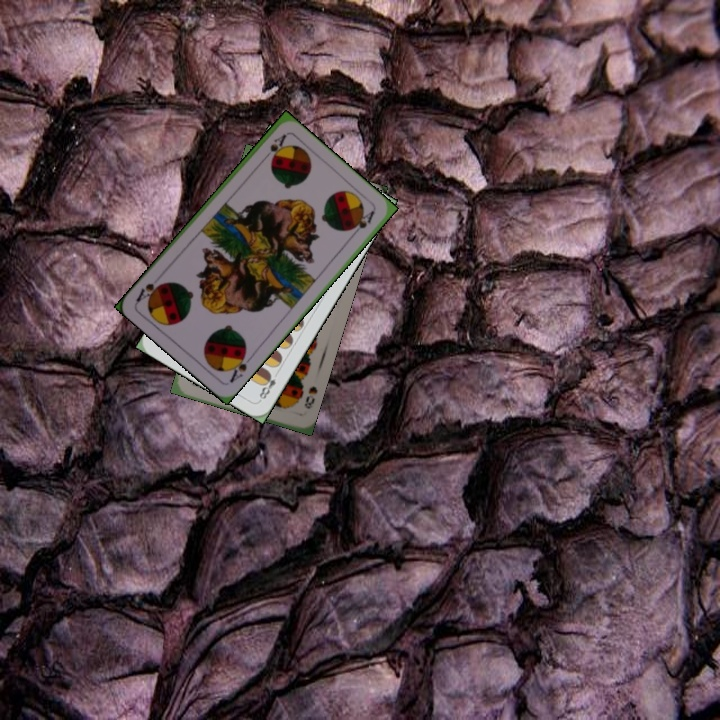E8: (255, 368, 279, 403)
S8: (300, 382, 320, 412)
SA: (224, 347, 255, 385), (258, 130, 289, 164)
